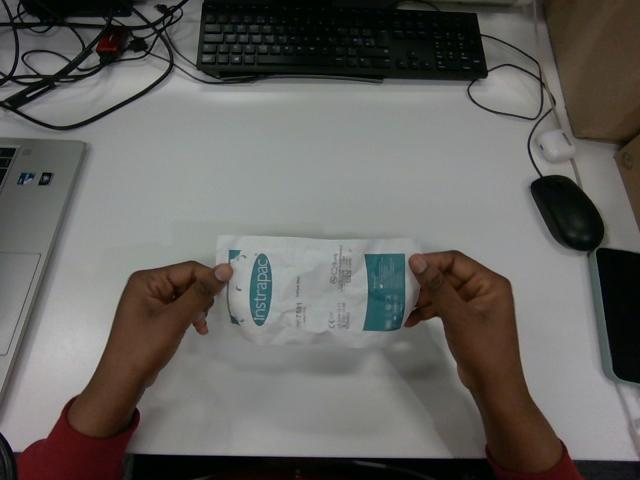gallipot: (217, 236, 420, 346)
